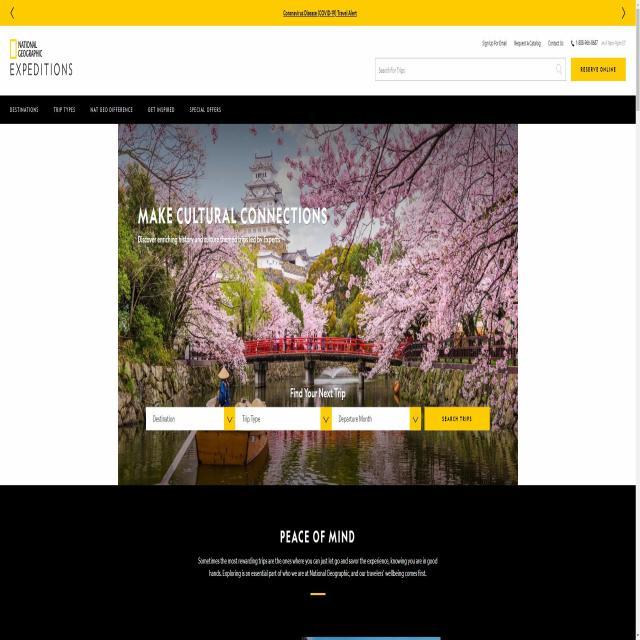button: (425, 407, 490, 430), (572, 57, 626, 82)
input: (375, 57, 565, 81)
select: (235, 406, 332, 432), (147, 406, 236, 431), (332, 407, 421, 431)
